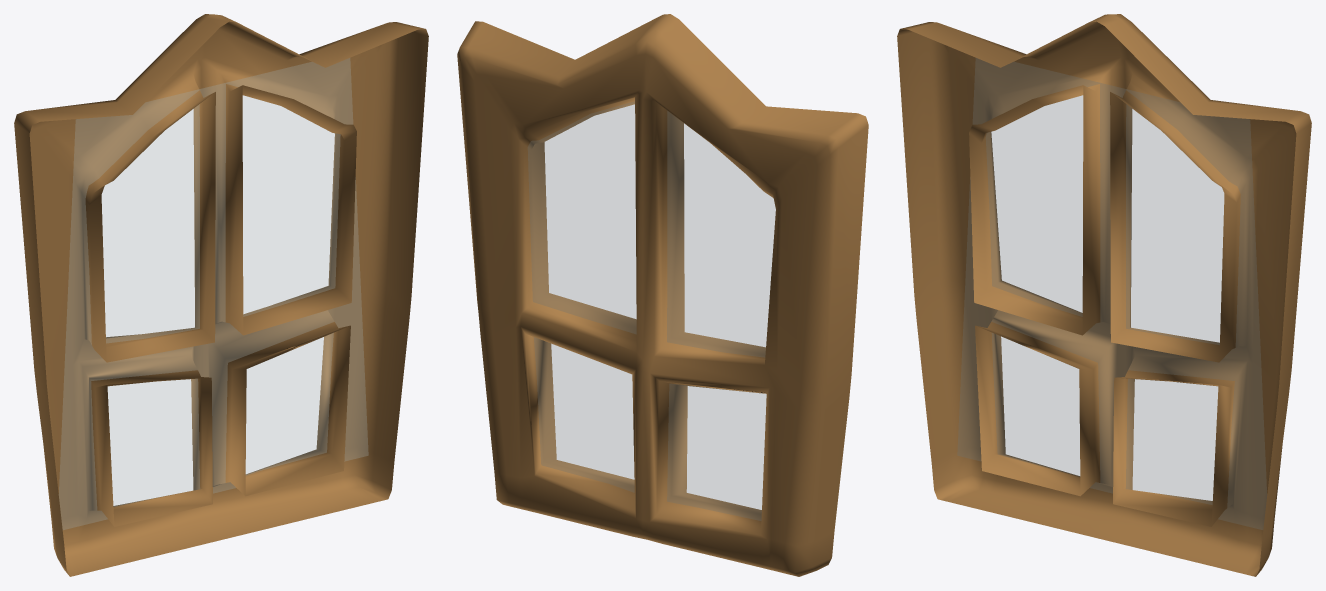
The model's file is props_window_4.fbx.
3 views of the same model, side by side, from view 1: azimuth 30°, elevation 25°; view 2: azimuth 150°, elevation 25°; view 3: azimuth 330°, elevation 25° (orthographic).
Parts seen in each view (by area): view 1: Props_window4; view 2: Props_window4; view 3: Props_window4.
Boxes of the visible parts, x1,y1,x2,y2 form: Props_window4: [14, 14, 428, 576]; Props_window4: [457, 14, 868, 576]; Props_window4: [897, 14, 1311, 576].
Bounding box in the file's own units: 1.88 × 0.2289 × 2.33.
